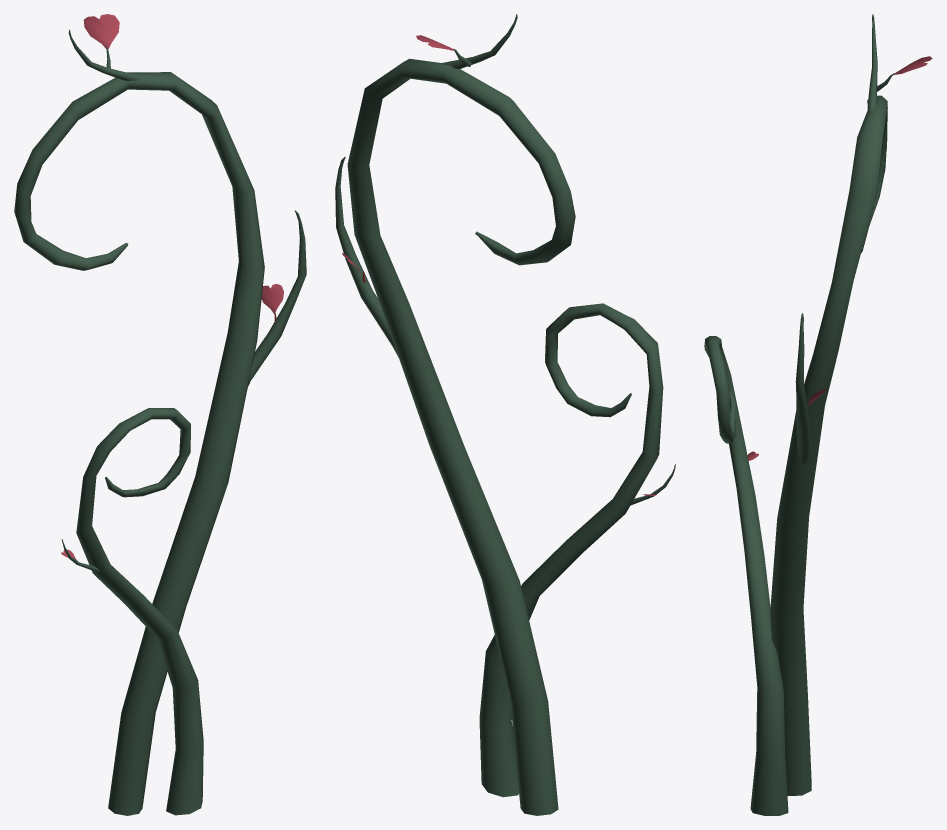
File: PL_magicflowerStage1_01.fbx
3 renders of one model, left to right at view 1: azimuth 30°, elevation 25°; view 2: azimuth 150°, elevation 25°; view 3: azimuth 270°, elevation 25°, orthographic. The views are drawn at different scales.
Parts seen in each view (by area): view 1: PL_magicflowerStage1_01; view 2: PL_magicflowerStage1_01; view 3: PL_magicflowerStage1_01.
Boxes of the visible parts, bbox=[...] form: PL_magicflowerStage1_01: bbox=[14, 14, 306, 815]; PL_magicflowerStage1_01: bbox=[335, 14, 675, 815]; PL_magicflowerStage1_01: bbox=[704, 14, 932, 815].
Bounding box in the file's own units: 9.63 × 25.21 × 6.79.
1 material, 1 textured.
